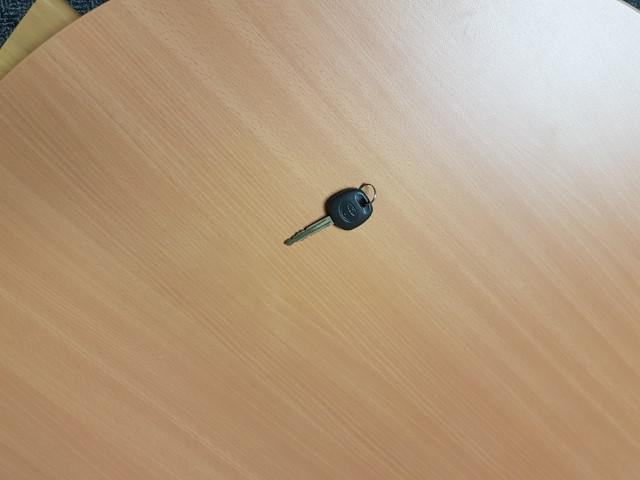key: (279, 185, 379, 253)
